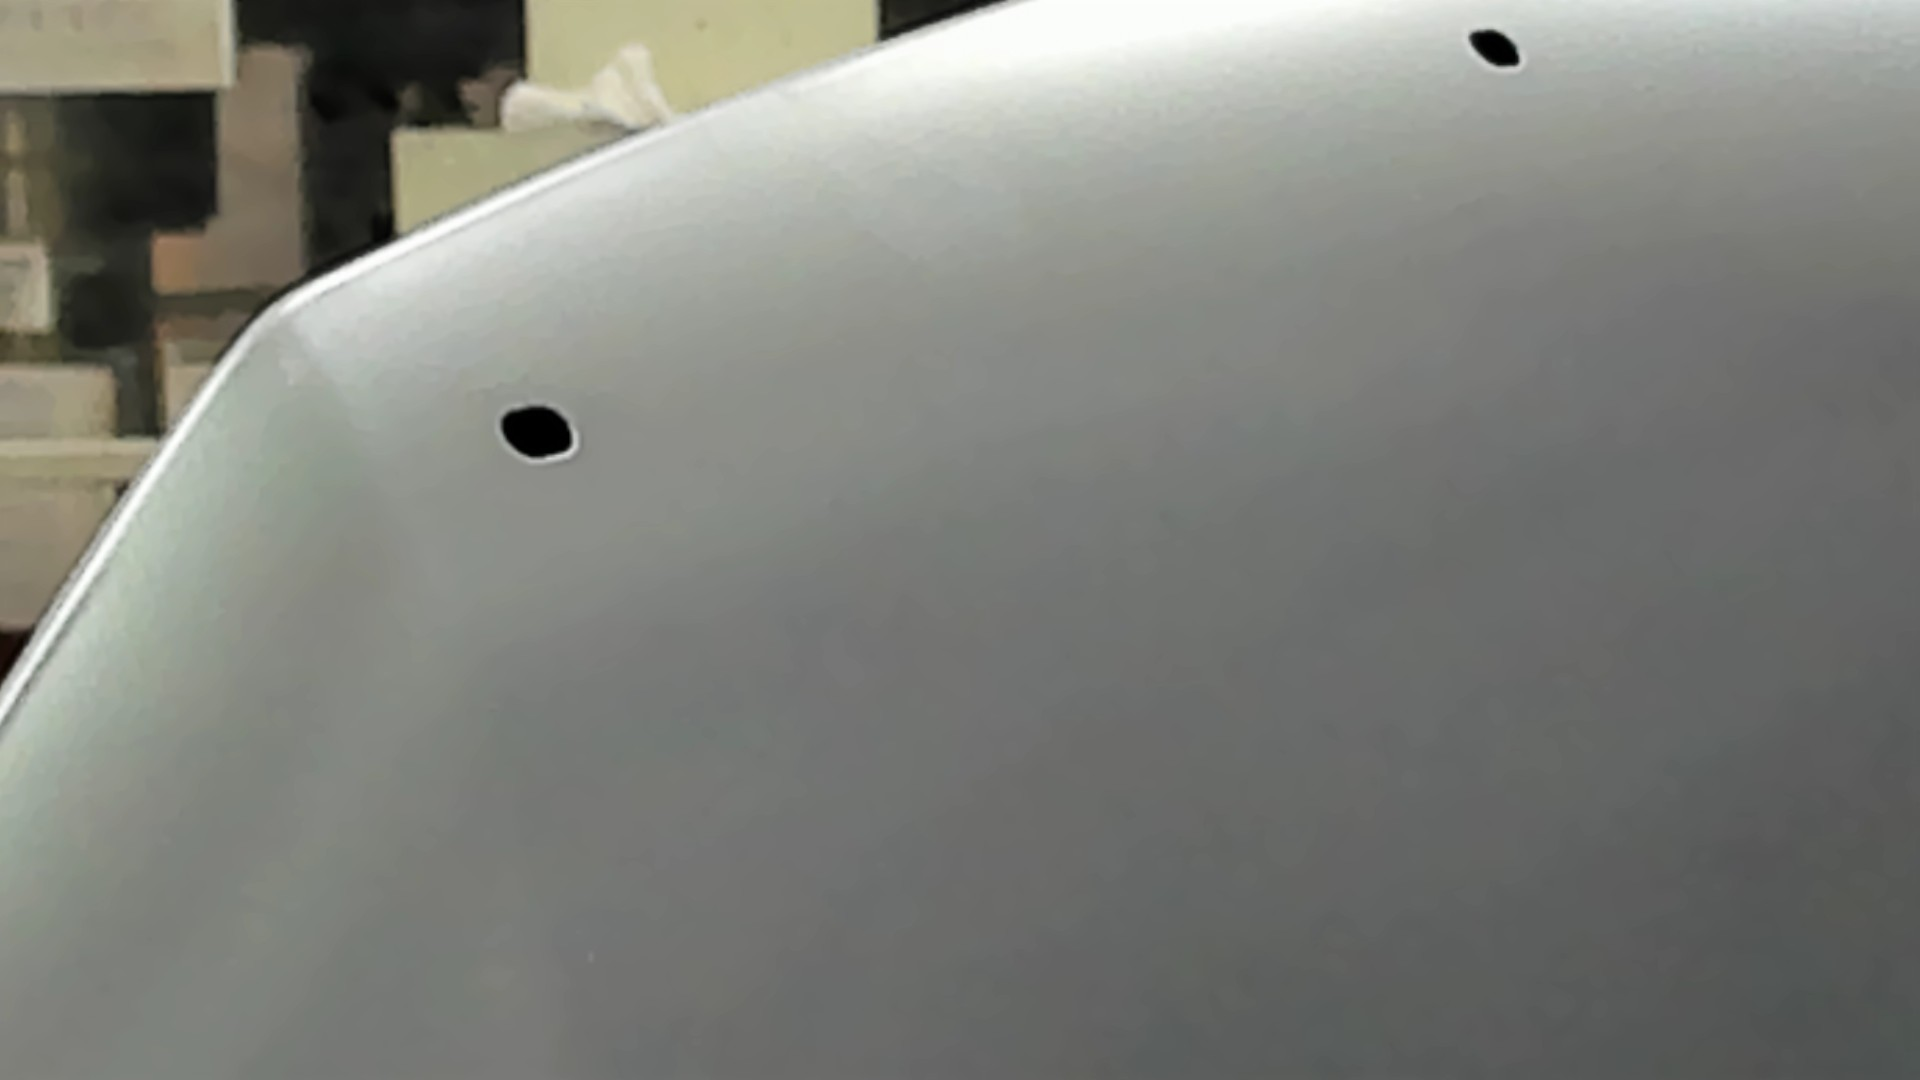amorfo: (495, 404, 585, 464), (1462, 21, 1527, 74)
